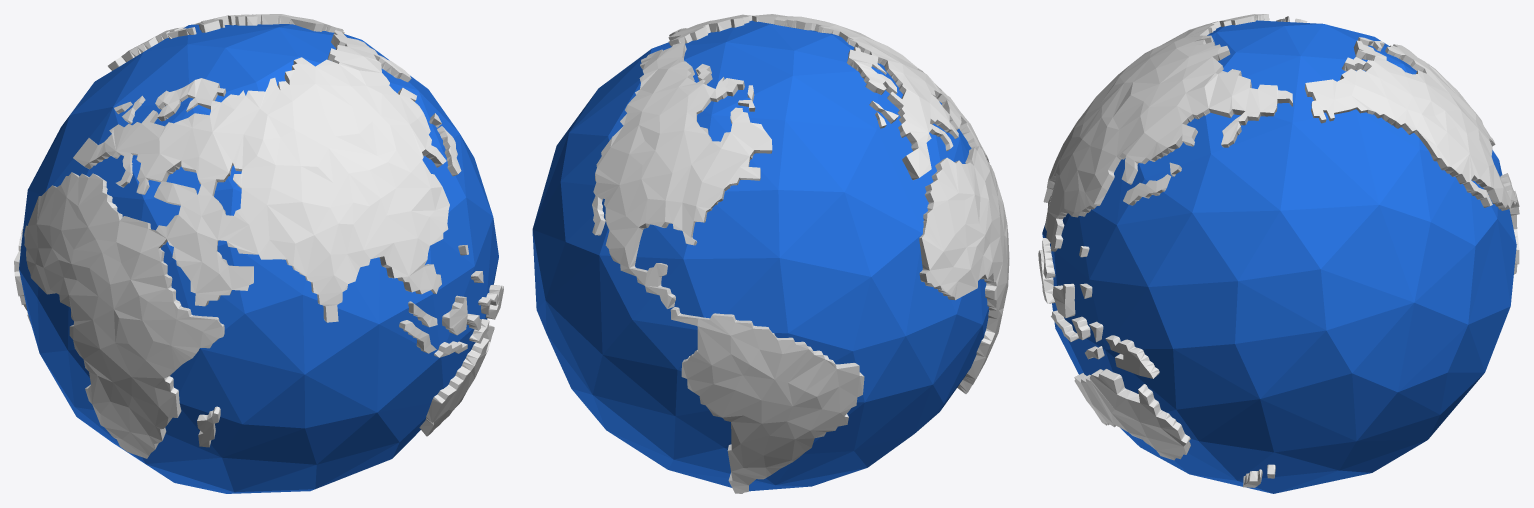
File: Tierra.fbx
3 views of the same model, side by side, from view 1: azimuth 30°, elevation 25°; view 2: azimuth 150°, elevation 25°; view 3: azimuth 270°, elevation 25° (orthographic).
Parts seen in each view (by area): view 1: Paises, Agua; view 2: Agua, Paises; view 3: Agua, Paises.
Part boxes in pixels (x1,y1,x2,y2): Paises: (14, 14, 503, 458); Agua: (19, 24, 498, 493); Agua: (532, 20, 988, 491); Paises: (592, 14, 1009, 493); Agua: (1042, 20, 1516, 493); Paises: (1038, 14, 1519, 487).
Size of the model in its own units: 1332 by 1323 by 1347.
